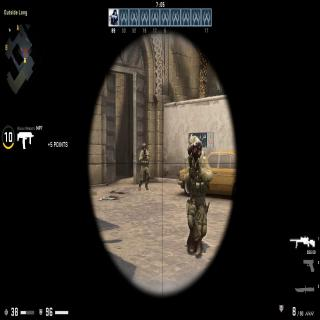CT-Body: (183, 130, 210, 257), (138, 140, 150, 189)
CT-Head: (188, 133, 202, 154), (141, 142, 147, 152), (198, 142, 202, 156)
